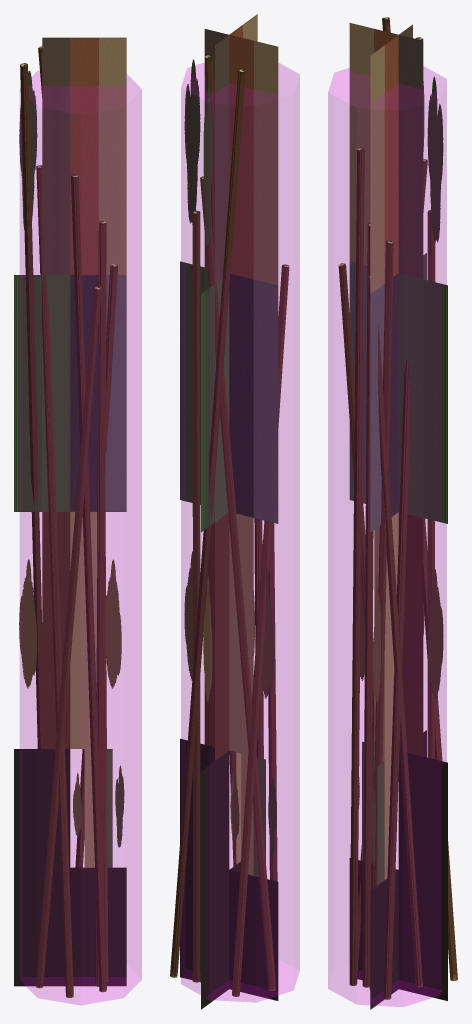
File: ocotillo_tall.dae
3 renders of one model, left to right at view 1: azimuth 90°, elevation 25°; view 2: azimuth 150°, elevation 25°; view 3: azimuth 330°, elevation 25°, orthographic.
Visible parts, largest first — view 1: Colmesh_clump-1, ocotillo_tall_a50, ocotillo_tall_a800, ocotillo_tall_a200; view 2: Colmesh_clump-1, ocotillo_tall_a50, ocotillo_tall_a800, ocotillo_tall_a200; view 3: Colmesh_clump-1, ocotillo_tall_a50, ocotillo_tall_a800, ocotillo_tall_a200.
Boxes of the visible parts, <box> form: Colmesh_clump-1: <box>20,70,141,1005</box>; ocotillo_tall_a50: <box>14,37,126,986</box>; ocotillo_tall_a800: <box>20,46,117,997</box>; ocotillo_tall_a200: <box>20,46,117,997</box>; Colmesh_clump-1: <box>181,63,299,1002</box>; ocotillo_tall_a50: <box>180,14,278,1009</box>; ocotillo_tall_a800: <box>170,55,289,996</box>; ocotillo_tall_a200: <box>170,55,289,996</box>; Colmesh_clump-1: <box>328,66,446,1006</box>; ocotillo_tall_a50: <box>349,23,447,1009</box>; ocotillo_tall_a800: <box>338,17,457,999</box>; ocotillo_tall_a200: <box>339,17,457,999</box>.
Size of the model in its own units: 0.57 by 0.5852 by 4.79.
2 materials, 1 textured.
